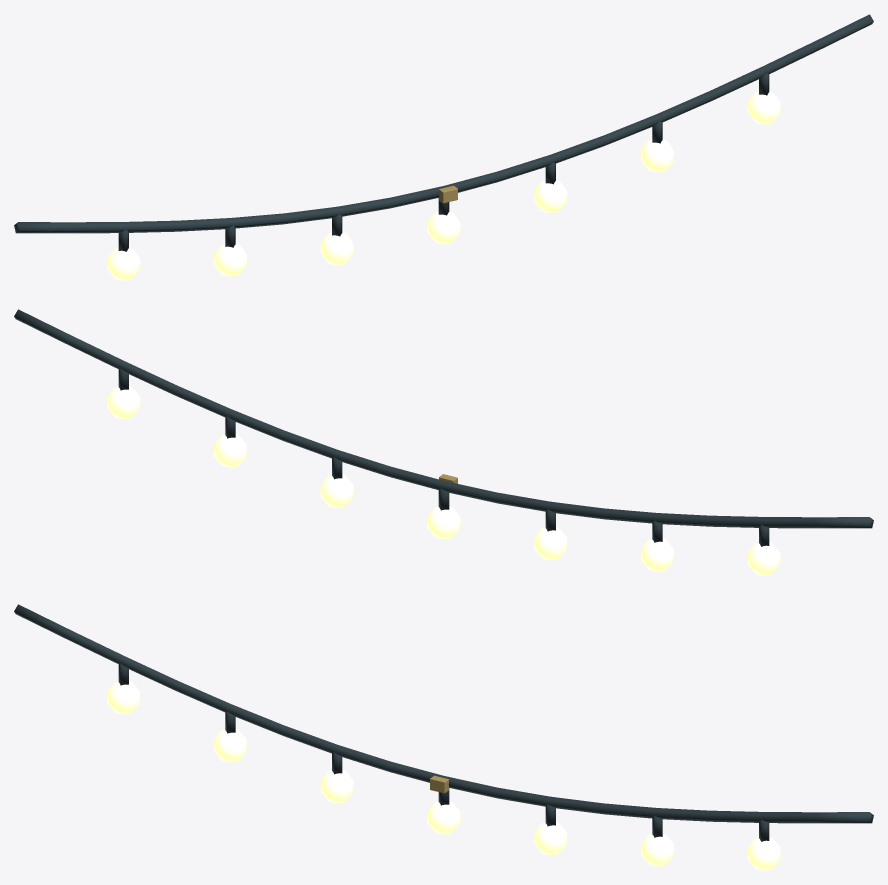
The model's file is lights_string.glb.
3 views of the same model, one above another, from view 1: azimuth 30°, elevation 25°; view 2: azimuth 150°, elevation 25°; view 3: azimuth 330°, elevation 25° (orthographic).
Size of the model in its own units: 1.98 by 0.2767 by 0.0633.
